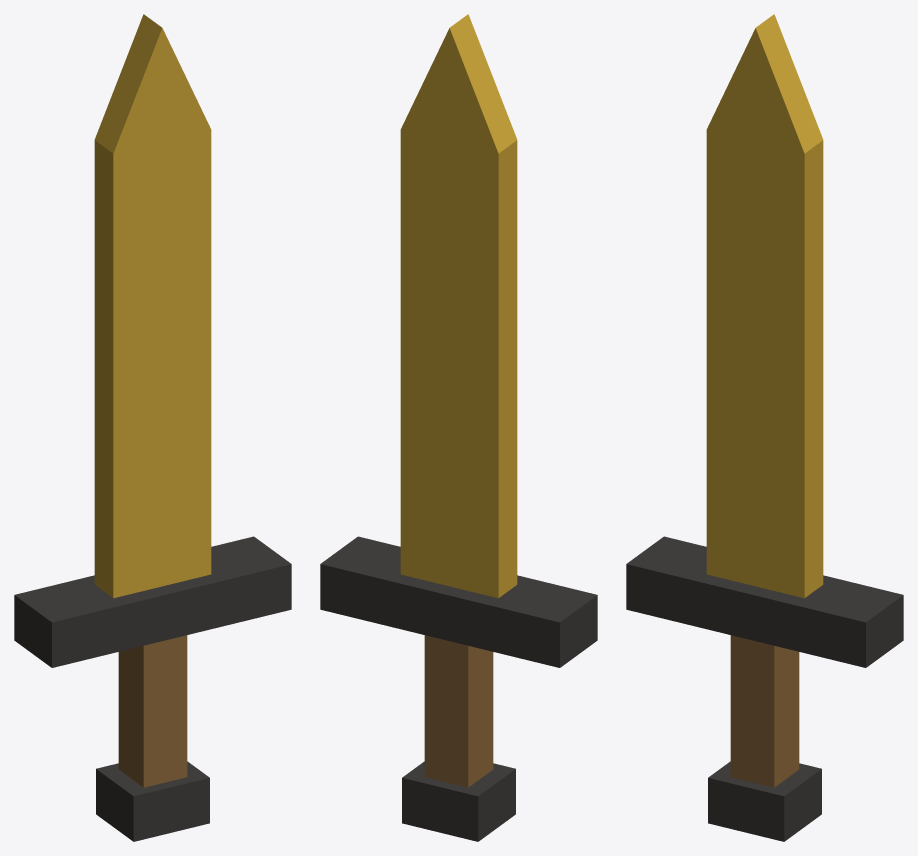
Rendered from sword_gold.fbx.
3 renders of one model, left to right at view 1: azimuth 30°, elevation 25°; view 2: azimuth 150°, elevation 25°; view 3: azimuth 330°, elevation 25°, orthographic.
Parts seen in each view (by area): view 1: sword_gold; view 2: sword_gold; view 3: sword_gold.
Boxes of the visible parts, x1,y1,x2,y2 form: sword_gold: (14, 14, 291, 841); sword_gold: (320, 14, 597, 841); sword_gold: (626, 14, 903, 841).
Bounding box in the file's own units: 0.66 × 2.1 × 0.18.
